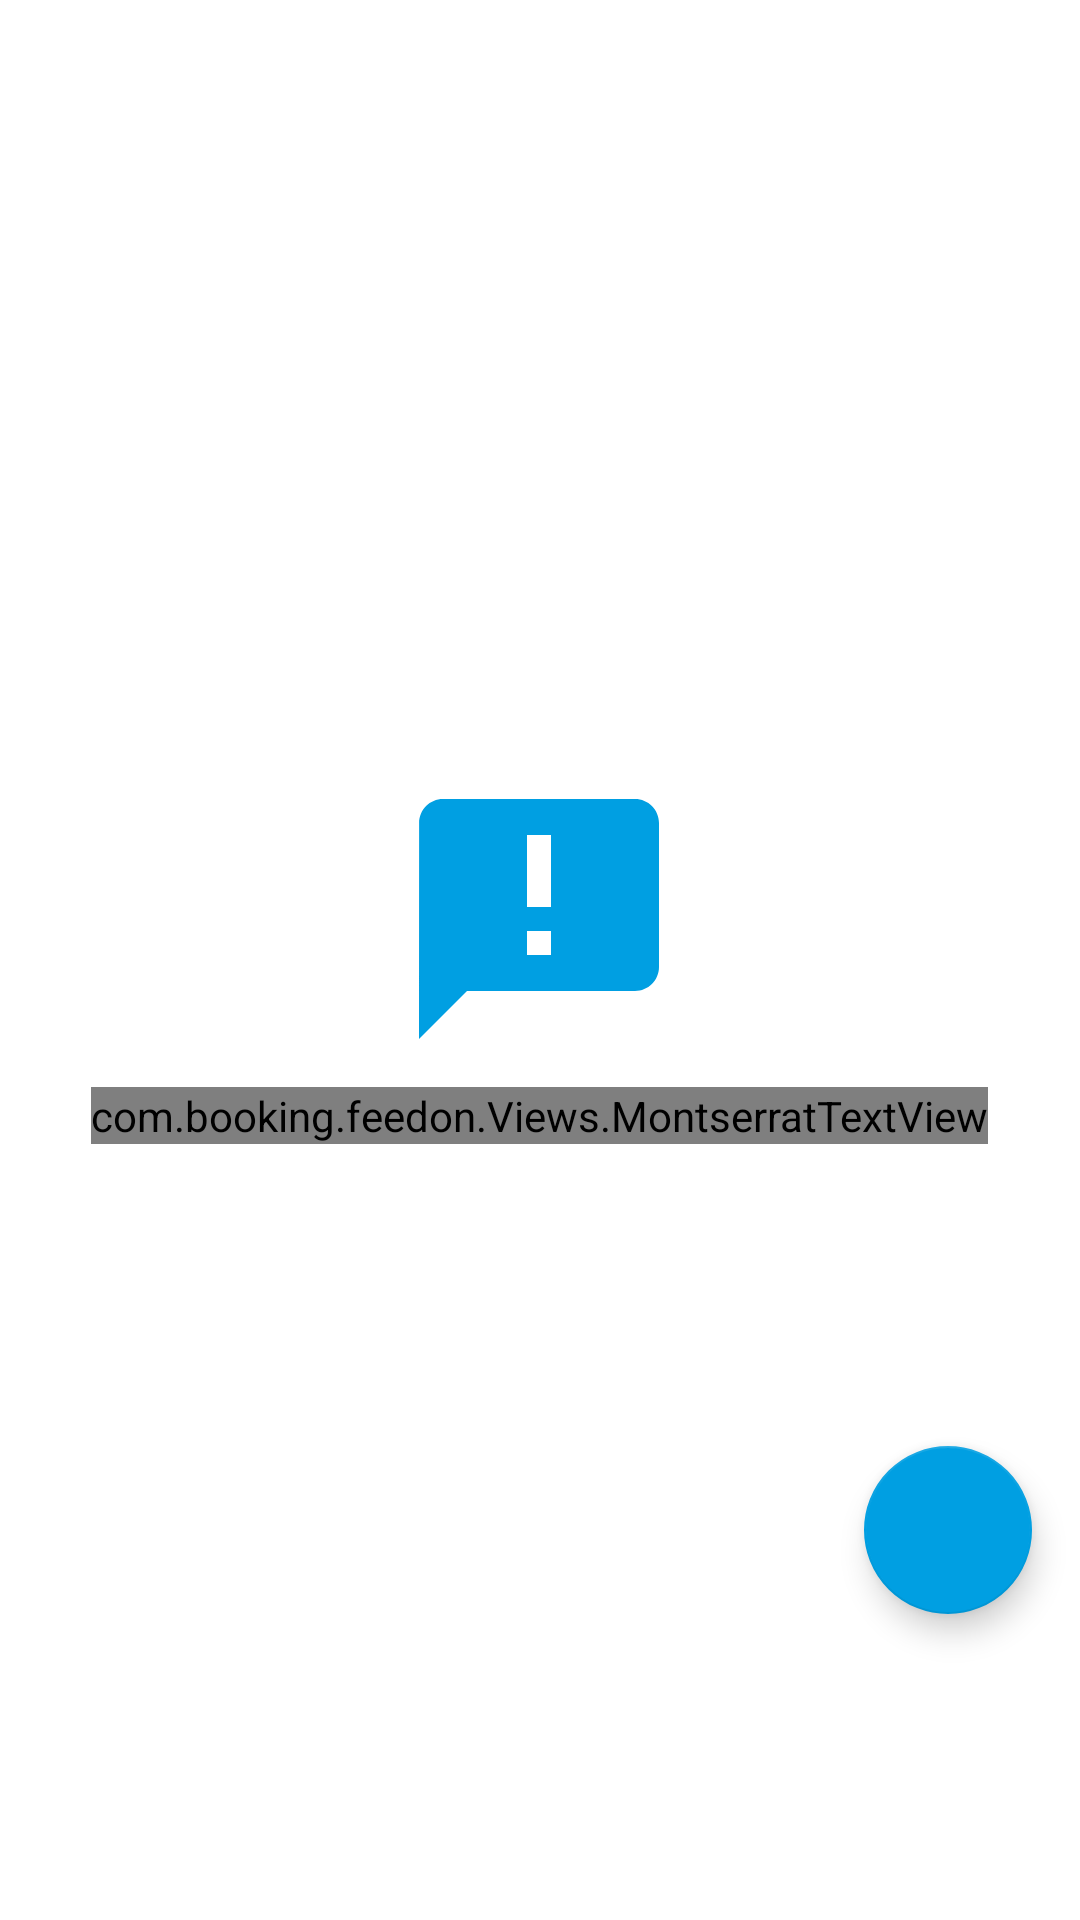

Icon bounding boxes for this 1080×1920 phone screenshot, format (x1, y1, x2, y2):
no feed found: (419, 799, 659, 1039)
